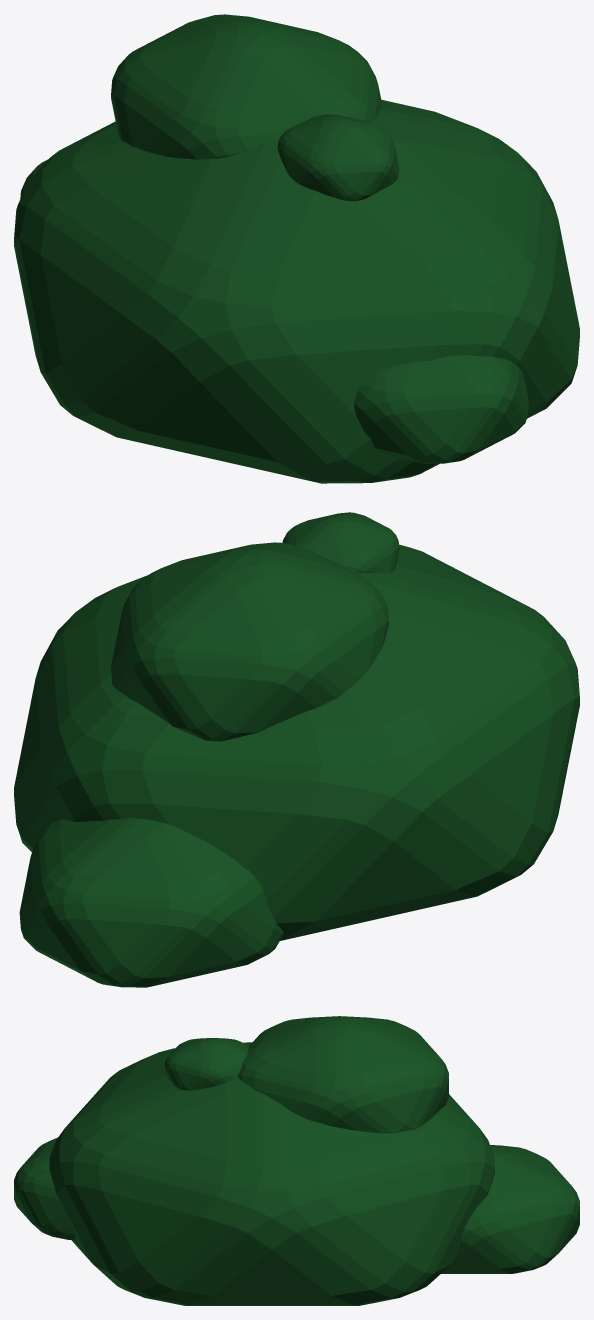
The model's file is Krzak1.fbx.
3 views of the same model, one above another, from view 1: azimuth 30°, elevation 25°; view 2: azimuth 150°, elevation 25°; view 3: azimuth 270°, elevation 25° (orthographic). The views are drawn at different scales.
Parts seen in each view (by area): view 1: Kula ico.004; view 2: Kula ico.004; view 3: Kula ico.004.
Part boxes in pixels (x1=…): Kula ico.004: x1=14, y1=14, x2=579, y2=483; Kula ico.004: x1=14, y1=512, x2=579, y2=987; Kula ico.004: x1=14, y1=1016, x2=579, y2=1305.
Size of the model in its own units: 392 by 247 by 571.
